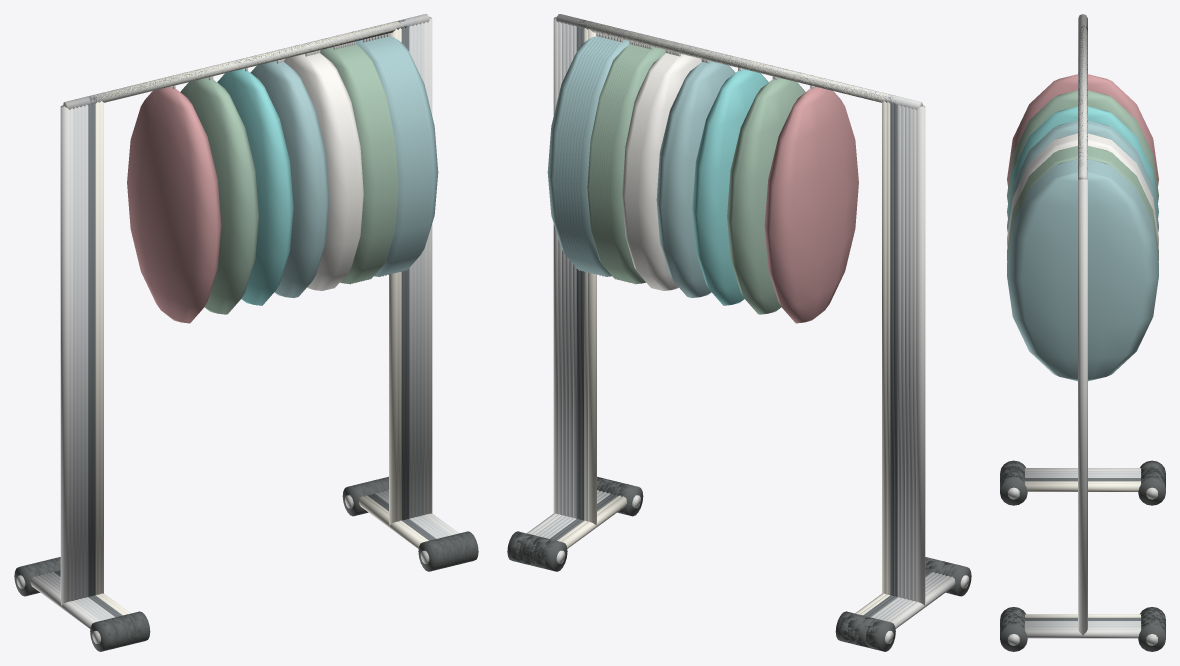
The model's file is Gear06.fbx.
The picture shows the model from 3 angles, left to right: view 1: azimuth 30°, elevation 25°; view 2: azimuth 150°, elevation 25°; view 3: azimuth 270°, elevation 25°; orthographic projection. The views are drawn at different scales.
Parts seen in each view (by area): view 1: Gear06_V10_Rose, Gear06_V10_Chrome, Gear06_V10_Sage, Gear06_V10_Aqua, Gear06_V1_Ivory, Gear06_V4_Blue, Gear06_V2_Paper, Gear06_V2_Ivory, Gear06_V7_BrushedSteel, Gear06_V5_BrushedSteel, Gear06_V9_Chrome, Gear06_V4_Charcoal (+24 smaller); view 2: Gear06_V10_Rose, Gear06_V10_Chrome, Gear06_V10_Sage, Gear06_V10_Aqua, Gear06_V1_Ivory, Gear06_V4_Blue, Gear06_V2_Paper, Gear06_V5_BrushedSteel, Gear06_V2_Ivory, Gear06_V8_BrushedSteel, Gear06_V9_Chrome, Gear06_V3_Charcoal (+24 smaller); view 3: Gear06_V10_Blue, Gear06_V10_Chrome, Gear06_V8_Sage, Gear06_V10_Rose, Gear06_V10_Aqua, Gear06_V1_Ivory, Gear06_V10_Tyre, Gear06_V1_Tyre, Gear06_V10_Paper, Gear06_V5_BrushedSteel, Gear06_V10_Sage, Gear06_V2_Ivory (+27 smaller).
Part boxes in pixels (left/top/right/bottom): Gear06_V10_Rose: left=127, top=86, right=221, bottom=323; Gear06_V10_Chrome: left=16, top=14, right=458, bottom=643; Gear06_V10_Sage: left=180, top=44, right=398, bottom=314; Gear06_V10_Aqua: left=217, top=69, right=293, bottom=305; Gear06_V1_Ivory: left=99, top=22, right=424, bottom=614; Gear06_V4_Blue: left=250, top=39, right=415, bottom=297; Gear06_V2_Paper: left=284, top=54, right=348, bottom=290; Gear06_V2_Ivory: left=95, top=21, right=428, bottom=615; Gear06_V7_BrushedSteel: left=43, top=17, right=446, bottom=619; Gear06_V5_BrushedSteel: left=51, top=18, right=439, bottom=617; Gear06_V9_Chrome: left=36, top=15, right=454, bottom=621; Gear06_V4_Charcoal: left=54, top=20, right=435, bottom=617; Gear06_V10_Rose: left=764, top=86, right=858, bottom=323; Gear06_V10_Chrome: left=527, top=14, right=969, bottom=643; Gear06_V10_Sage: left=587, top=44, right=805, bottom=314; Gear06_V10_Aqua: left=692, top=69, right=768, bottom=305; Gear06_V1_Ivory: left=561, top=22, right=886, bottom=614; Gear06_V4_Blue: left=570, top=39, right=735, bottom=297; Gear06_V2_Paper: left=637, top=54, right=701, bottom=290; Gear06_V5_BrushedSteel: left=546, top=20, right=934, bottom=617; Gear06_V2_Ivory: left=557, top=22, right=890, bottom=615; Gear06_V8_BrushedSteel: left=535, top=15, right=945, bottom=620; Gear06_V9_Chrome: left=531, top=15, right=949, bottom=621; Gear06_V3_Charcoal: left=553, top=26, right=927, bottom=616; Gear06_V10_Blue: left=1007, top=122, right=1158, bottom=381; Gear06_V10_Chrome: left=1008, top=14, right=1157, bottom=645; Gear06_V8_Sage: left=1007, top=91, right=1158, bottom=257; Gear06_V10_Rose: left=1007, top=74, right=1158, bottom=186; Gear06_V10_Aqua: left=1007, top=106, right=1158, bottom=217; Gear06_V1_Ivory: left=1024, top=29, right=1141, bottom=615; Gear06_V10_Tyre: left=1000, top=460, right=1165, bottom=651; Gear06_V1_Tyre: left=1000, top=475, right=1165, bottom=623; Gear06_V10_Paper: left=1007, top=138, right=1158, bottom=246; Gear06_V5_BrushedSteel: left=1024, top=23, right=1141, bottom=622; Gear06_V10_Sage: left=1007, top=90, right=1158, bottom=261; Gear06_V2_Ivory: left=1024, top=27, right=1141, bottom=617.
Size of the model in its own units: 115 by 151 by 48.
